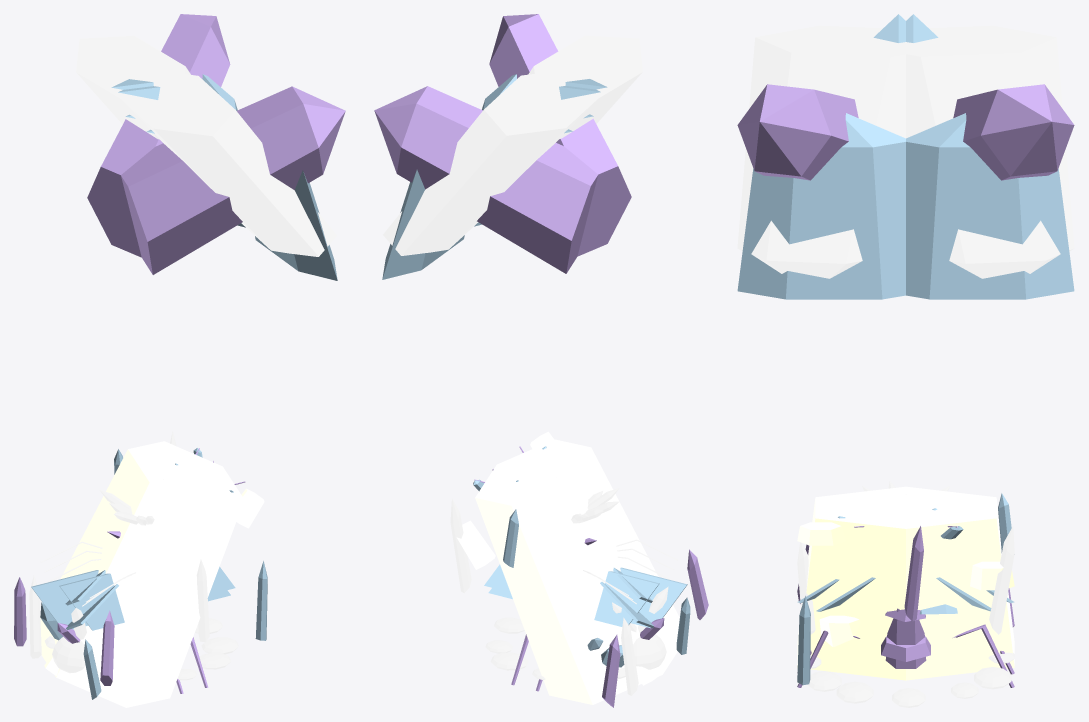
The model's file is maitre-cristal-v5.glb.
The picture shows the model from 3 angles, left to right: view 1: azimuth 30°, elevation 25°; view 2: azimuth 150°, elevation 25°; view 3: azimuth 270°, elevation 25°; orthographic projection. The views are drawn at different scales.
Parts seen in each view (by area): view 1: maitre_cristal_coeur_lueur.001, maitre_cristal_brasFalse_lueur.001, maitre_cristal_brasFalse.002, maitre_cristal_brasTrue_lueur.001, maitre_cristal_brasTrue.002, maitre_cristal_lumieres.001, maitre_cristal_corps.002, maitre_cristal_eclats_lueur.001, maitre_cristal_eclats.002, maitre_cristal_coeurs_lueur.001; view 2: maitre_cristal_coeur_lueur.001, maitre_cristal_brasTrue_lueur.001, maitre_cristal_brasTrue.002, maitre_cristal_brasFalse_lueur.001, maitre_cristal_brasFalse.002, maitre_cristal_lumieres.001, maitre_cristal_corps.002, maitre_cristal_eclats_lueur.001, maitre_cristal_eclats.002, maitre_cristal_coeurs_lueur.001; view 3: maitre_cristal_brasFalse_lueur.001, maitre_cristal_brasTrue_lueur.001, maitre_cristal_coeur_lueur.001, maitre_cristal_brasFalse.002, maitre_cristal_brasTrue.002, maitre_cristal_lumieres.001, maitre_cristal_corps.002, maitre_cristal_coeurs_lueur.001, maitre_cristal_eclats_lueur.001, maitre_cristal_eclats.002.
Boxes of the visible parts, bbox=[...] form: maitre_cristal_coeur_lueur.001: bbox=[40, 441, 244, 707]; maitre_cristal_brasFalse_lueur.001: bbox=[118, 86, 345, 280]; maitre_cristal_brasFalse.002: bbox=[121, 74, 336, 256]; maitre_cristal_brasTrue_lueur.001: bbox=[87, 14, 245, 257]; maitre_cristal_brasTrue.002: bbox=[76, 35, 190, 139]; maitre_cristal_lumieres.001: bbox=[31, 448, 245, 693]; maitre_cristal_corps.002: bbox=[41, 479, 238, 680]; maitre_cristal_eclats_lueur.001: bbox=[14, 449, 267, 699]; maitre_cristal_eclats.002: bbox=[29, 431, 209, 658]; maitre_cristal_coeurs_lueur.001: bbox=[44, 488, 264, 675]; maitre_cristal_coeur_lueur.001: bbox=[475, 439, 679, 704]; maitre_cristal_brasTrue_lueur.001: bbox=[374, 85, 600, 279]; maitre_cristal_brasTrue.002: bbox=[383, 74, 597, 255]; maitre_cristal_brasFalse_lueur.001: bbox=[474, 14, 631, 256]; maitre_cristal_brasFalse.002: bbox=[528, 35, 642, 138]; maitre_cristal_lumieres.001: bbox=[473, 446, 687, 691]; maitre_cristal_corps.002: bbox=[485, 488, 677, 679]; maitre_cristal_eclats_lueur.001: bbox=[492, 469, 708, 707]; maitre_cristal_eclats.002: bbox=[450, 498, 638, 695]; maitre_cristal_coeurs_lueur.001: bbox=[456, 431, 661, 685]; maitre_cristal_brasFalse_lueur.001: bbox=[737, 14, 905, 299]; maitre_cristal_brasTrue_lueur.001: bbox=[906, 14, 1074, 299]; maitre_cristal_coeur_lueur.001: bbox=[797, 486, 1014, 680]; maitre_cristal_brasFalse.002: bbox=[737, 25, 905, 278]; maitre_cristal_brasTrue.002: bbox=[906, 25, 1074, 278]; maitre_cristal_lumieres.001: bbox=[797, 508, 1014, 687]; maitre_cristal_corps.002: bbox=[797, 481, 1014, 707]; maitre_cristal_coeurs_lueur.001: bbox=[797, 522, 1014, 646]; maitre_cristal_eclats_lueur.001: bbox=[797, 493, 1014, 685]; maitre_cristal_eclats.002: bbox=[797, 526, 1014, 634].
Bounding box in the file's own units: 2.7 × 6.6 × 3.1.
